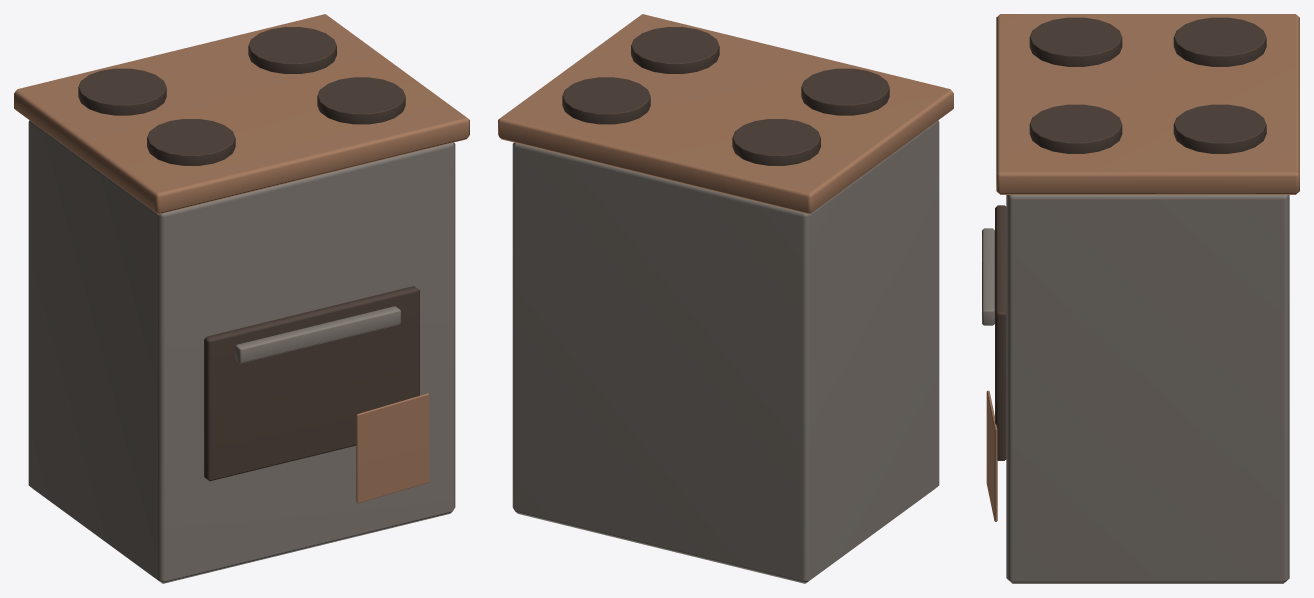
File: prop_kitchen_stove_old_01.glb
3 views of the same model, side by side, from view 1: azimuth 30°, elevation 25°; view 2: azimuth 150°, elevation 25°; view 3: azimuth 270°, elevation 25° (orthographic). The views are drawn at different scales.
Parts seen in each view (by area): view 1: stove_body.001, stove_top.001, stove_oven_door.001, rust_stain_front.001, stove_burner_02.001, stove_burner_03.001, stove_burner_01.001, stove_burner_04.001, stove_handle.001; view 2: stove_body.001, stove_top.001, stove_burner_01.001, stove_burner_04.001, stove_burner_03.001, stove_burner_02.001; view 3: stove_body.001, stove_top.001, stove_burner_03.001, stove_burner_01.001, stove_burner_02.001, stove_burner_04.001, stove_oven_door.001, stove_handle.001, rust_stain_front.001.
Part boxes in pixels (box(x1,y1,x2,y2)): stove_body.001: box(28, 120, 455, 583); stove_top.001: box(14, 14, 469, 214); stove_oven_door.001: box(204, 286, 419, 481); rust_stain_front.001: box(356, 393, 429, 503); stove_burner_02.001: box(317, 77, 405, 124); stove_burner_03.001: box(78, 68, 166, 115); stove_burner_01.001: box(147, 119, 235, 165); stove_burner_04.001: box(248, 27, 336, 73); stove_handle.001: box(235, 306, 400, 363); stove_body.001: box(512, 120, 939, 583); stove_top.001: box(498, 14, 953, 214); stove_burner_01.001: box(801, 68, 889, 115); stove_burner_04.001: box(562, 77, 650, 124); stove_burner_03.001: box(732, 119, 820, 165); stove_burner_02.001: box(631, 27, 719, 73); stove_body.001: box(1006, 195, 1289, 583); stove_top.001: box(996, 14, 1299, 194); stove_burner_03.001: box(1173, 17, 1266, 66); stove_burner_01.001: box(1029, 17, 1122, 66); stove_burner_02.001: box(1029, 104, 1122, 153); stove_burner_04.001: box(1173, 104, 1266, 153); stove_oven_door.001: box(995, 205, 1006, 460); stove_handle.001: box(982, 228, 994, 325); rust_stain_front.001: box(986, 390, 997, 521).
Bounding box in the file's own units: 0.74 × 0.9225 × 0.6175.
